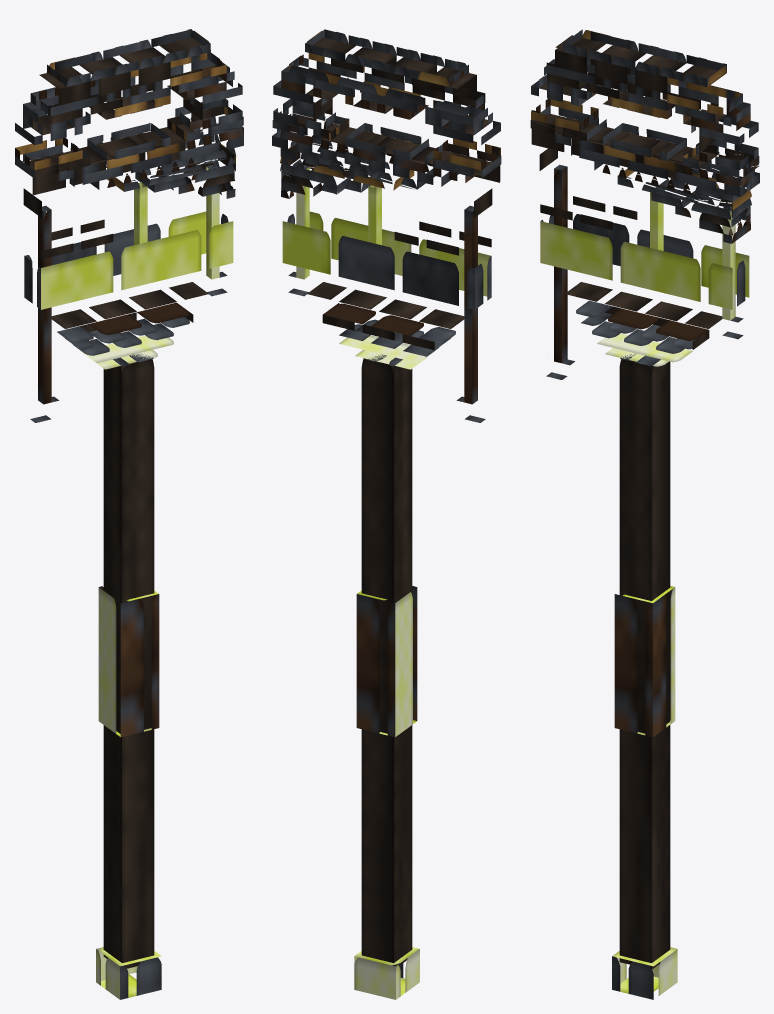
File: vat_stirrer.obj
3 views of the same model, side by side, from view 1: azimuth 30°, elevation 25°; view 2: azimuth 150°, elevation 25°; view 3: azimuth 330°, elevation 25° (orthographic).
Parts seen in each view (by area): view 1: lit, fire; view 2: lit, fire; view 3: lit, fire.
Part boxes in pixels (bbox=[...]): lit: bbox=[16, 29, 243, 999]; fire: bbox=[15, 29, 243, 422]; lit: bbox=[274, 31, 500, 999]; fire: bbox=[272, 29, 501, 422]; lit: bbox=[531, 30, 758, 999]; fire: bbox=[530, 29, 759, 379].
Bounding box in the file's own units: 0.8317 × 3.54 × 0.1625.
